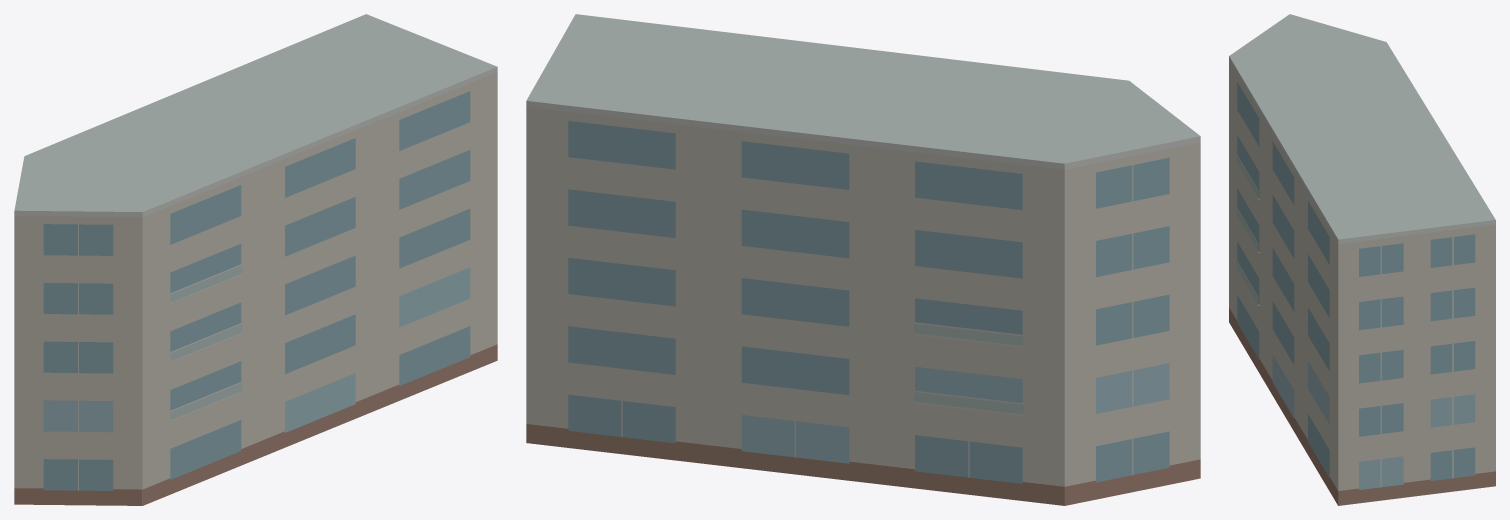
The model's file is survey-upis-32993057.glb.
The picture shows the model from 3 angles, left to right: view 1: azimuth 30°, elevation 25°; view 2: azimuth 150°, elevation 25°; view 3: azimuth 270°, elevation 25°; orthographic projection. The views are drawn at different scales.
Visible parts, largest first — view 1: survey-upis-32993057.tmp; view 2: survey-upis-32993057.tmp; view 3: survey-upis-32993057.tmp.
Boxes of the visible parts, left/top/right/bottom form: survey-upis-32993057.tmp: left=14, top=14, right=497, bottom=505; survey-upis-32993057.tmp: left=526, top=14, right=1200, bottom=505; survey-upis-32993057.tmp: left=1229, top=14, right=1495, bottom=505.
Size of the model in its own units: 25.44 by 14 by 12.72.
